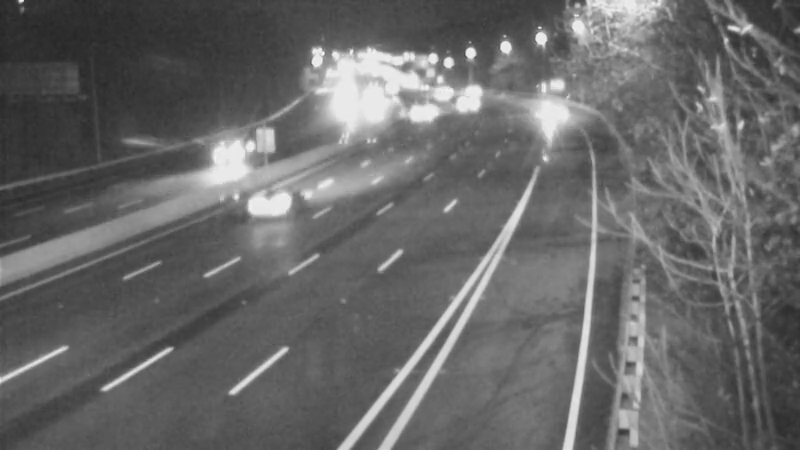vehicle: (231, 164, 311, 244), (186, 120, 266, 200), (417, 69, 467, 119), (453, 63, 503, 113), (444, 84, 494, 134), (527, 86, 577, 136), (390, 83, 440, 133), (343, 80, 393, 130)
